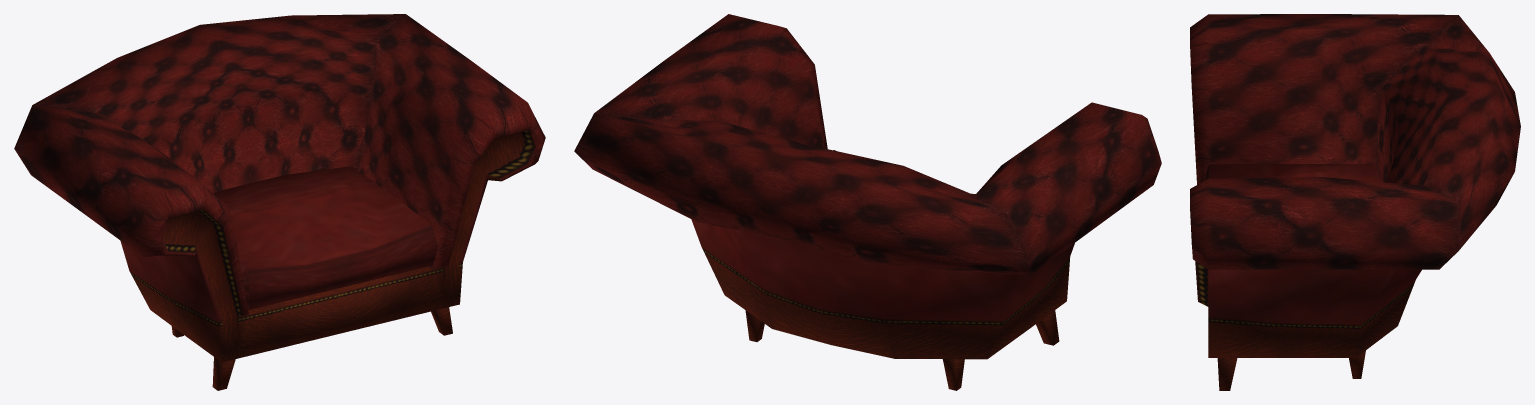
The model's file is ChamberChair_Upolstered.fbx.
3 views of the same model, side by side, from view 1: azimuth 30°, elevation 25°; view 2: azimuth 150°, elevation 25°; view 3: azimuth 270°, elevation 25° (orthographic). The views are drawn at different scales.
Visible parts, largest first — view 1: ChamberChair_LOD0; view 2: ChamberChair_LOD0; view 3: ChamberChair_LOD0.
Boxes of the visible parts, <box> form: ChamberChair_LOD0: <box>14,14,545,390</box>; ChamberChair_LOD0: <box>574,14,1161,390</box>; ChamberChair_LOD0: <box>1190,14,1520,390</box>.
Size of what is drawn, in the model's own units: 522 by 290 by 355.
